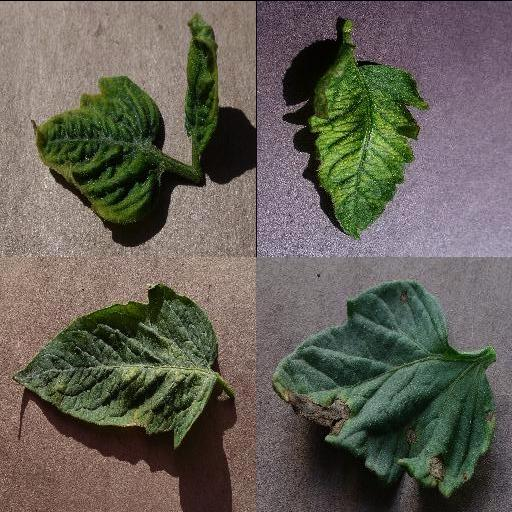Early Blight: (270, 278, 498, 498)
Mosaic Virus: (308, 45, 432, 239)
Spider Mites: (11, 282, 217, 446)
Yellow Leaf Curl Virus: (27, 75, 161, 221)
